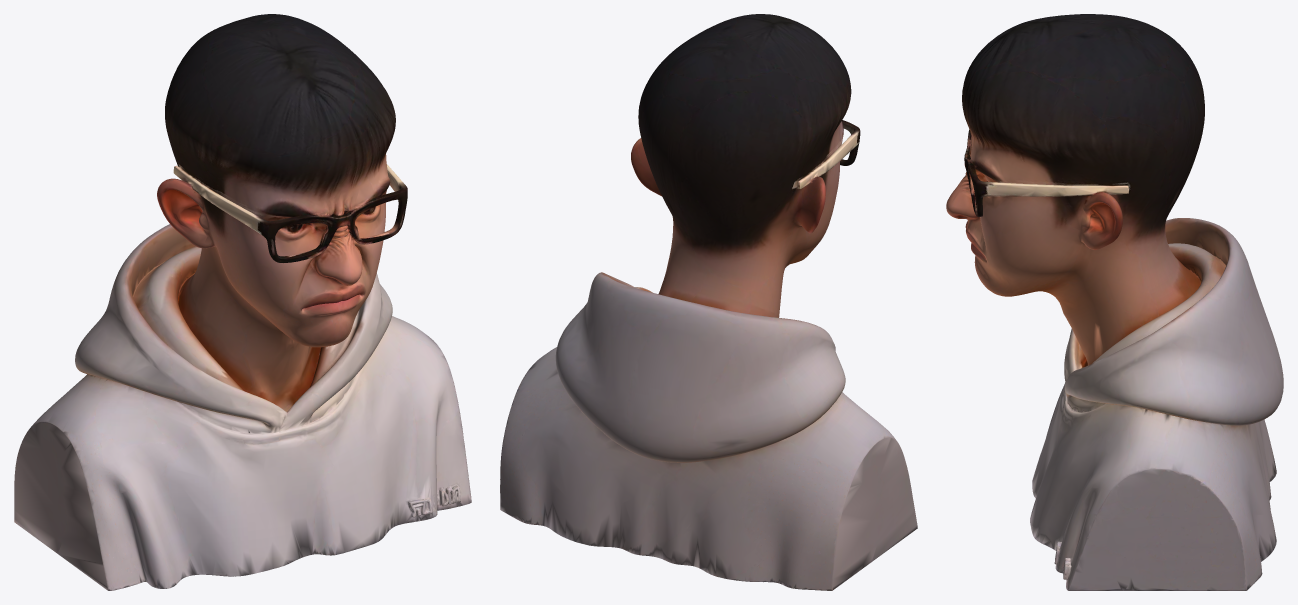
Rendered from mood-07.glb.
3 renders of one model, left to right at view 1: azimuth 30°, elevation 25°; view 2: azimuth 150°, elevation 25°; view 3: azimuth 270°, elevation 25°, orthographic. The views are drawn at different scales.
Visible parts, largest first — view 1: node_0; view 2: node_0; view 3: node_0.
Part boxes in pixels (x1,y1,x2,y2): node_0: (14,14,471,590); node_0: (500,14,917,590); node_0: (946,14,1283,590).
Size of the model in its own units: 0.6851 by 0.8923 by 0.5673.
Materials: 1 (1 with a texture image).
